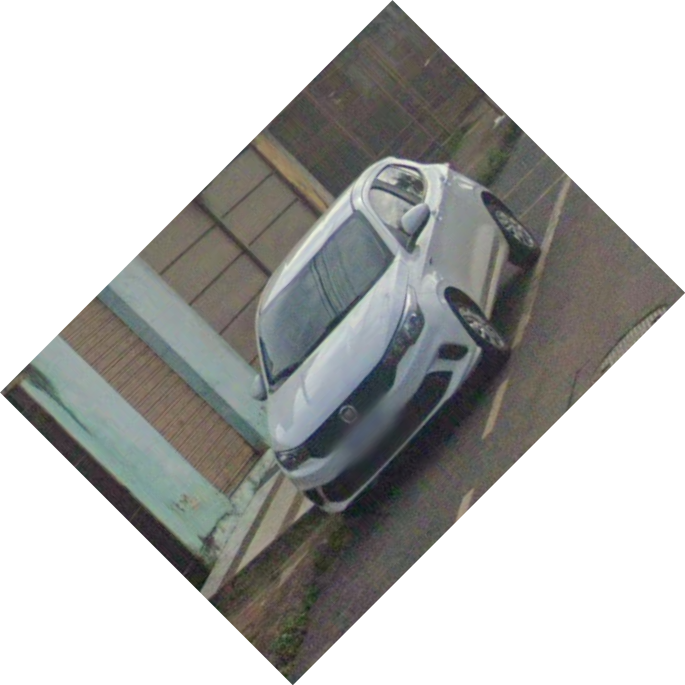car: (244, 144, 546, 526)
